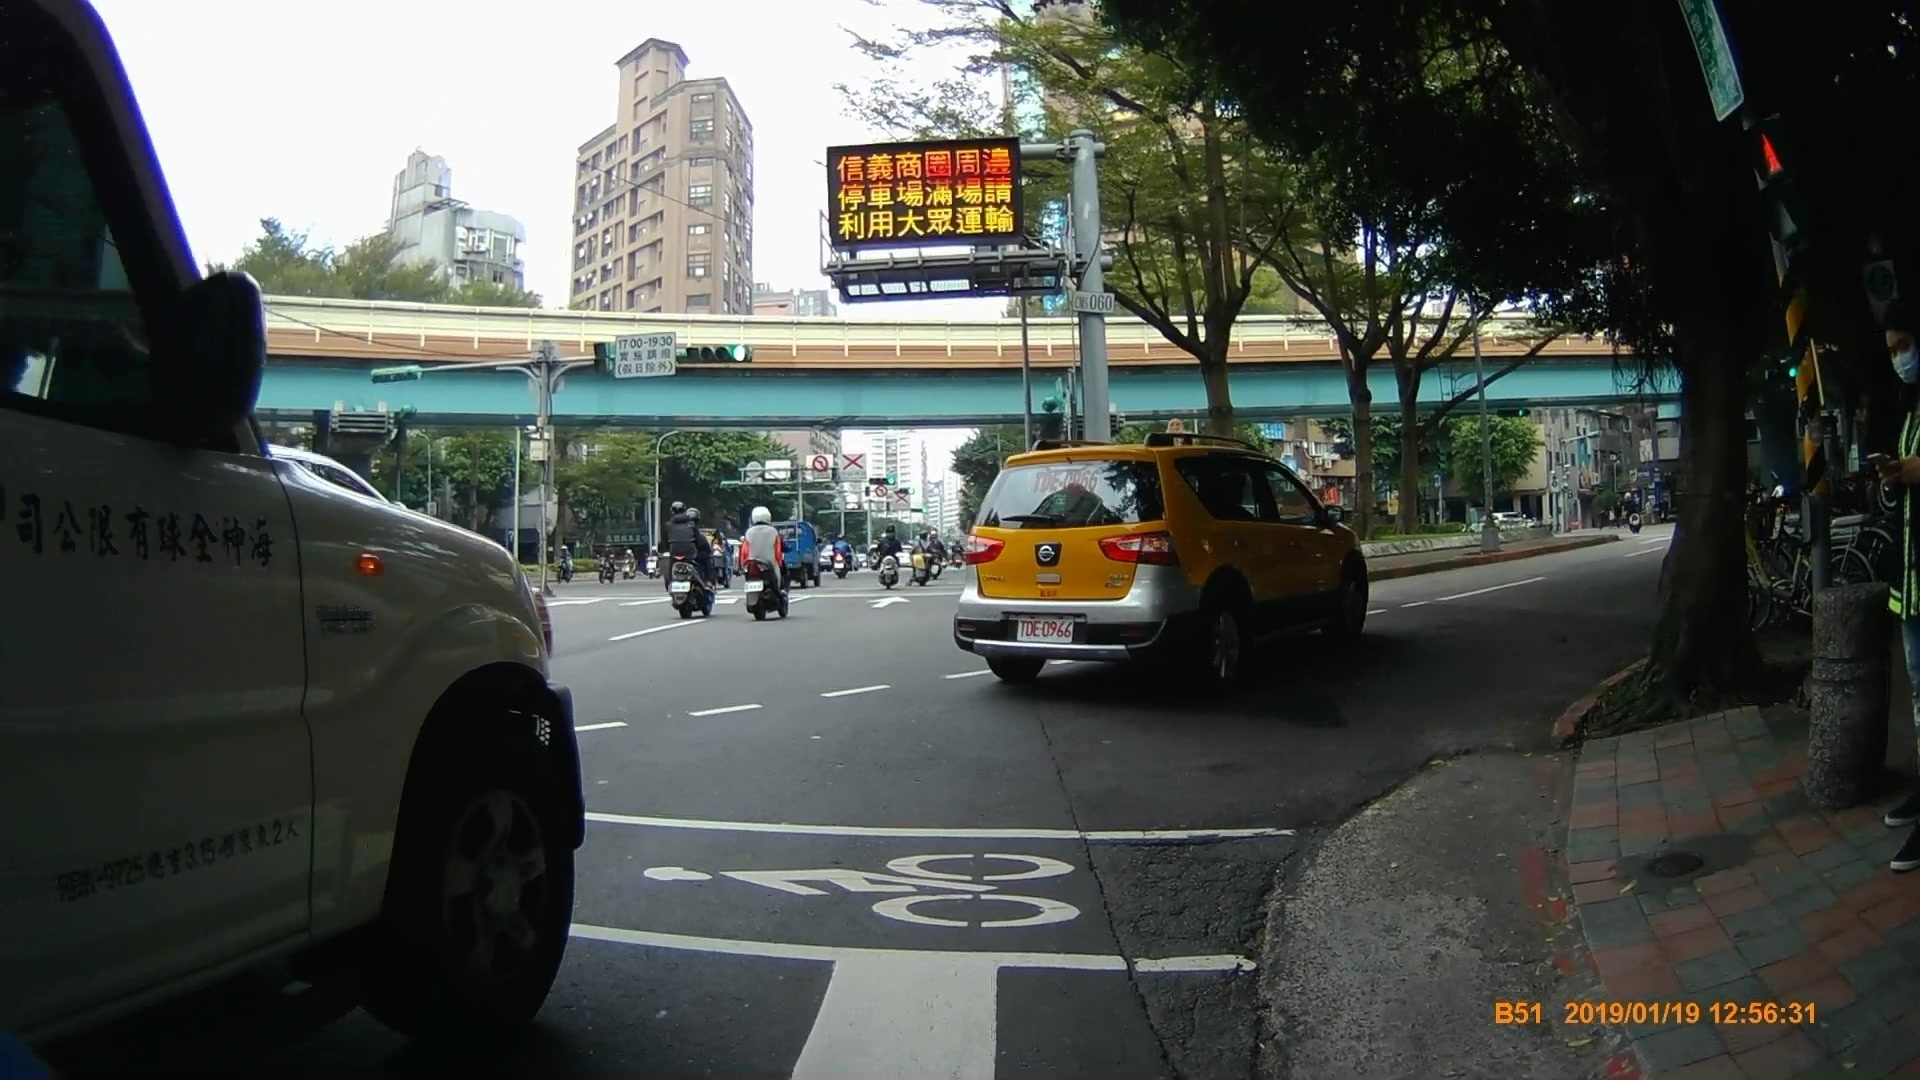License_plate: (1015, 609, 1078, 646)
